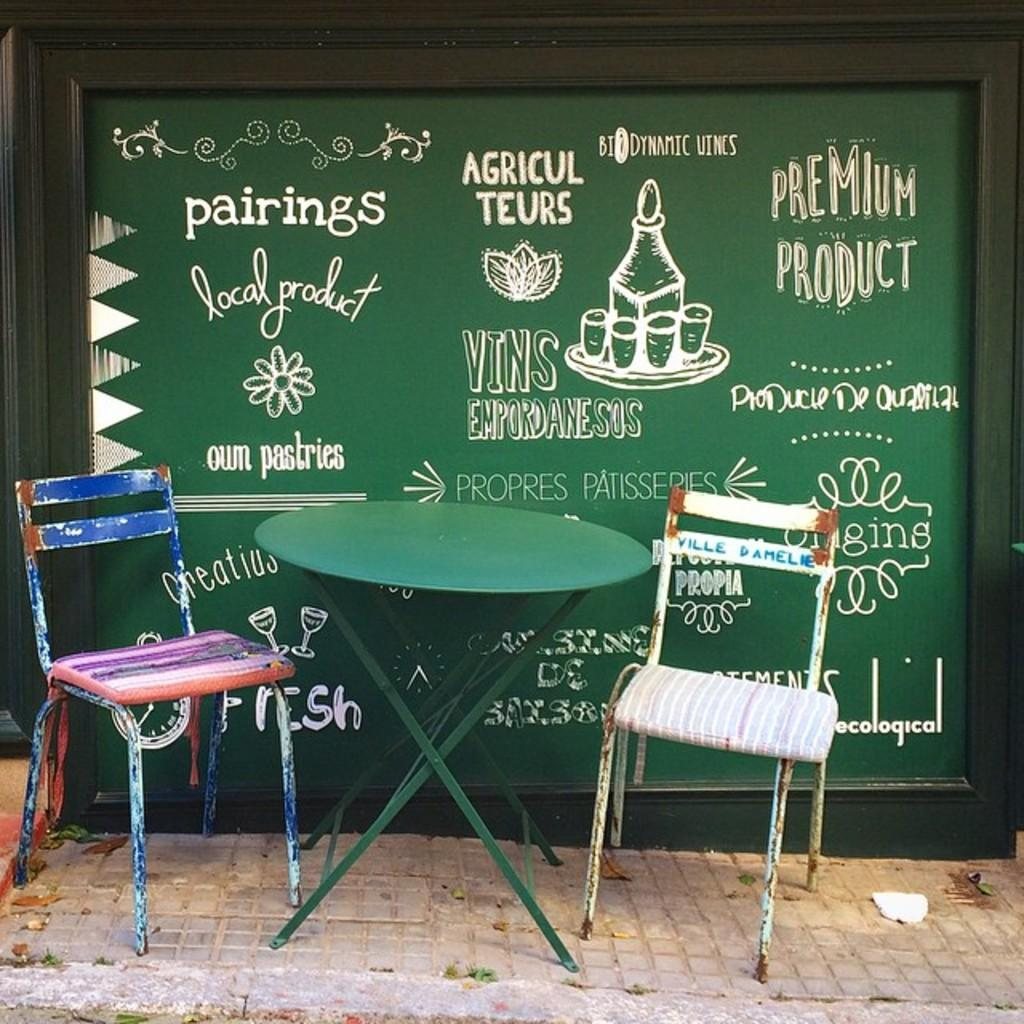Chair: (3, 467, 306, 947), (566, 499, 854, 992)
